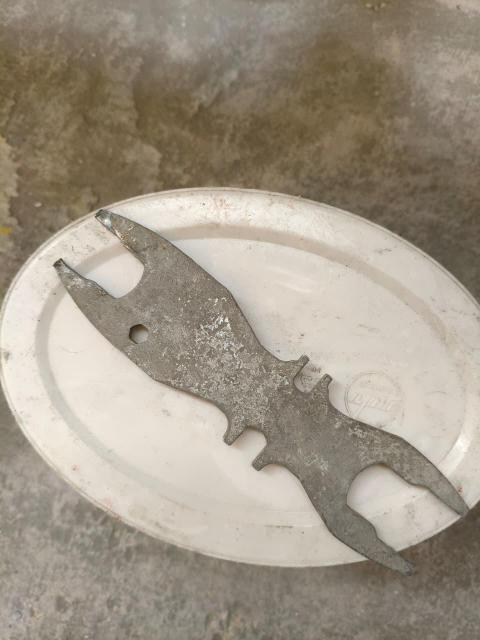Metal: (43, 208, 478, 572)
